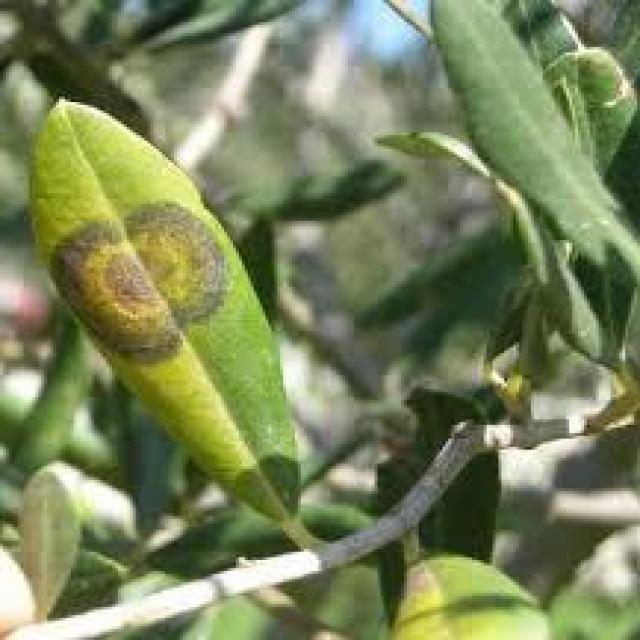OlivePeacockSpot: (32, 99, 298, 546)
